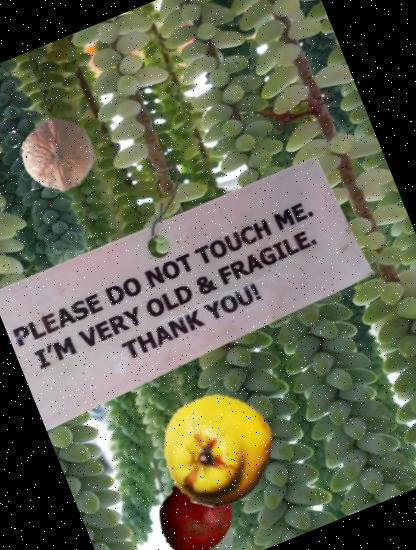Pomegranate: (144, 465, 244, 550)
Quince: (143, 376, 291, 524)
Walnut: (9, 105, 107, 203)
